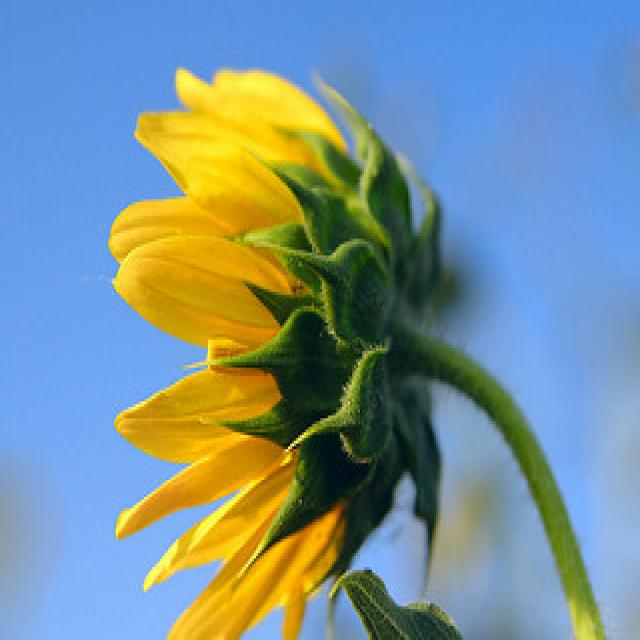sunflower: (100, 53, 430, 640)
